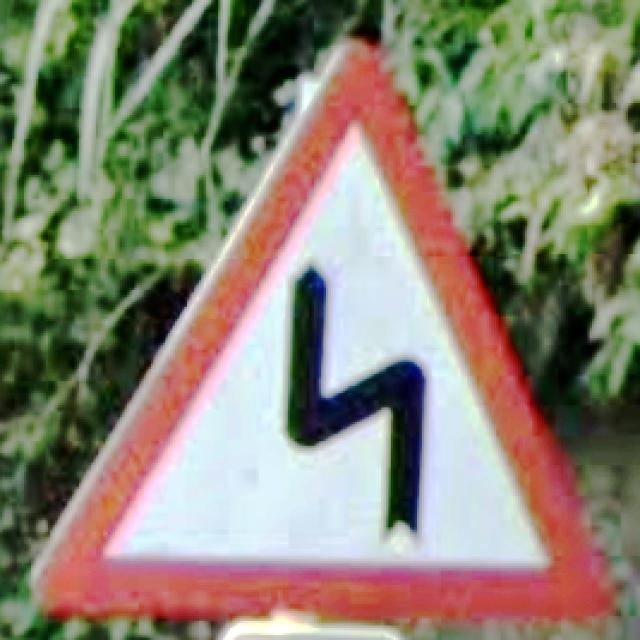doublebendleft: (31, 41, 611, 628)
